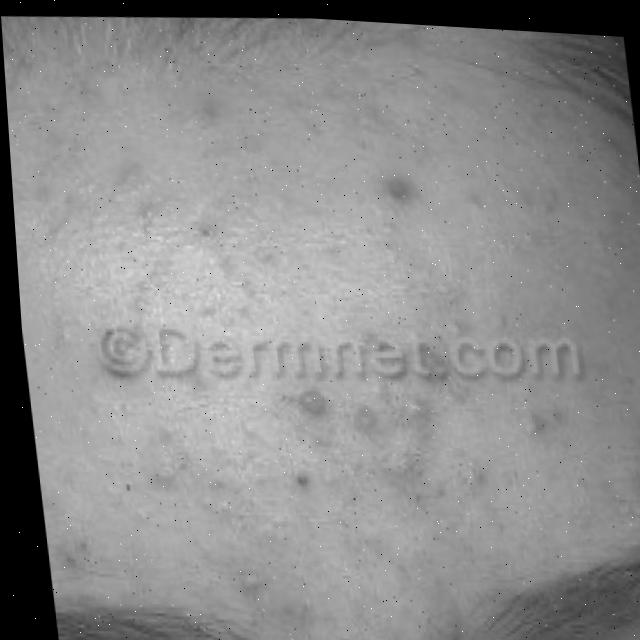Acne: (13, 59, 640, 640)
